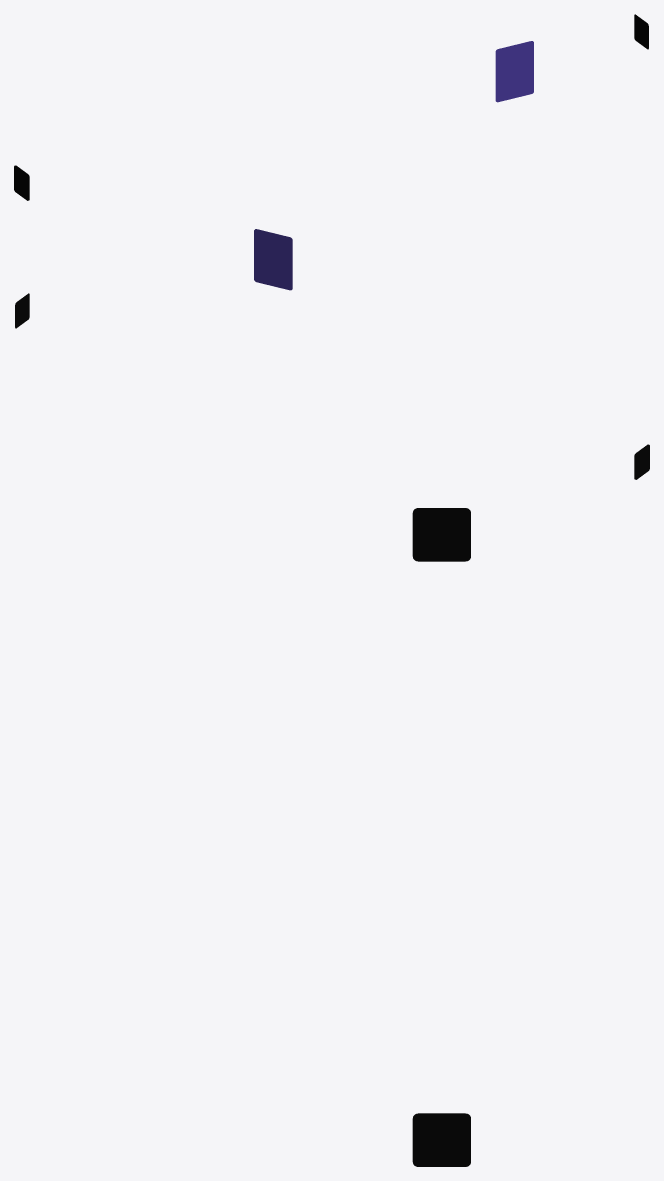
The model's file is SIDE)WINDIW.fbx.
3 views of the same model, one above another, from view 1: azimuth 30°, elevation 25°; view 2: azimuth 150°, elevation 25°; view 3: azimuth 270°, elevation 25° (orthographic). The views are drawn at different scales.
Parts seen in each view (by area): view 1: window; view 2: window; view 3: window.
Boxes of the visible parts, <box> form: window: <box>14,14,648,200</box>; window: <box>15,229,649,479</box>; window: <box>412,508,470,1166</box>.
Bounding box in the file's own units: 4893 × 948 × 688.
